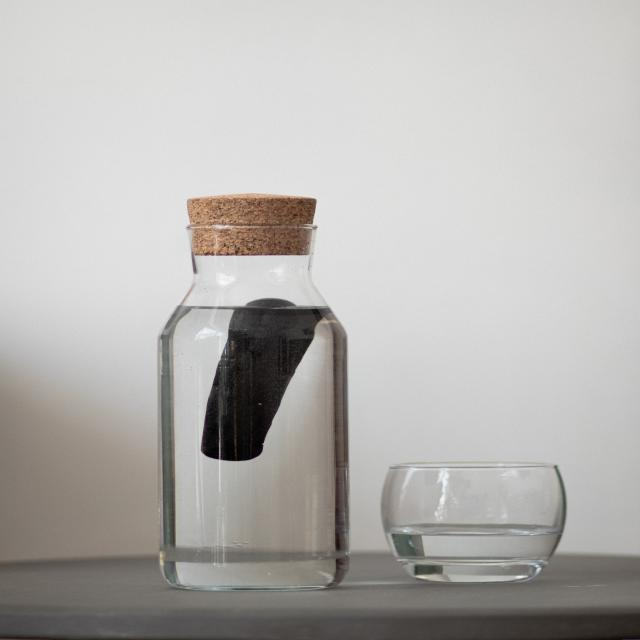Glass: (156, 255, 350, 593), (372, 461, 579, 586)
